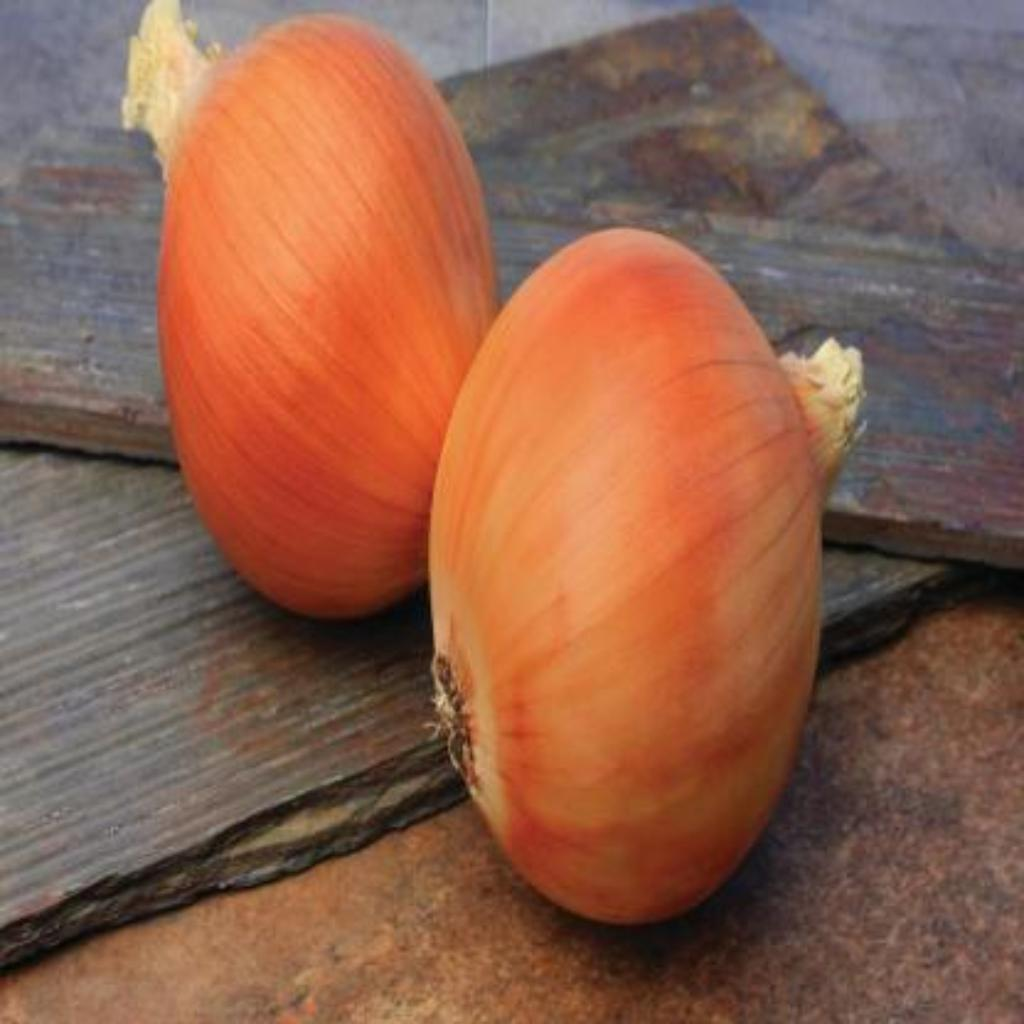Onion: (431, 229, 866, 924), (123, 0, 497, 619)
